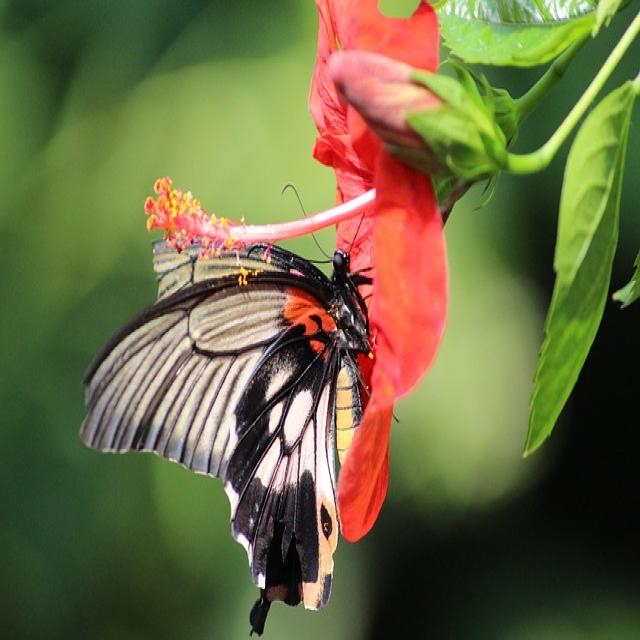butterfly: (78, 182, 373, 638)
